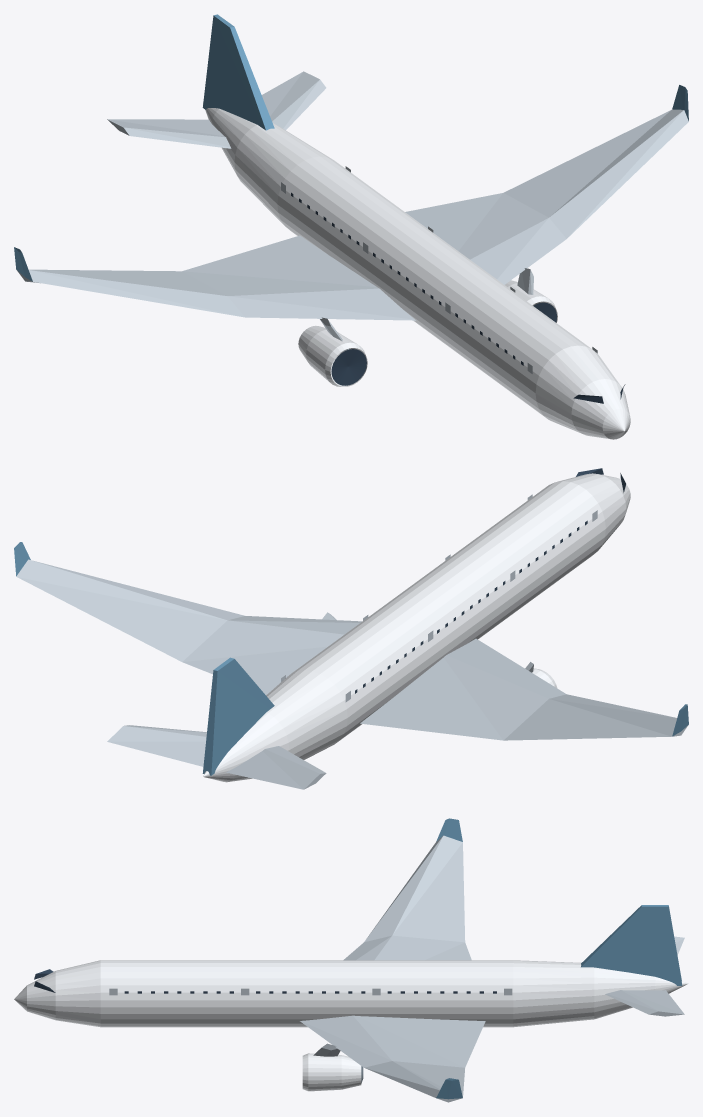
The picture shows the model from 3 angles, top to bottom: view 1: azimuth 30°, elevation 25°; view 2: azimuth 150°, elevation 25°; view 3: azimuth 270°, elevation 25°; orthographic projection. The views are drawn at different scales.
Bounding box in the file's own units: 35.5 × 9.35 × 39.
